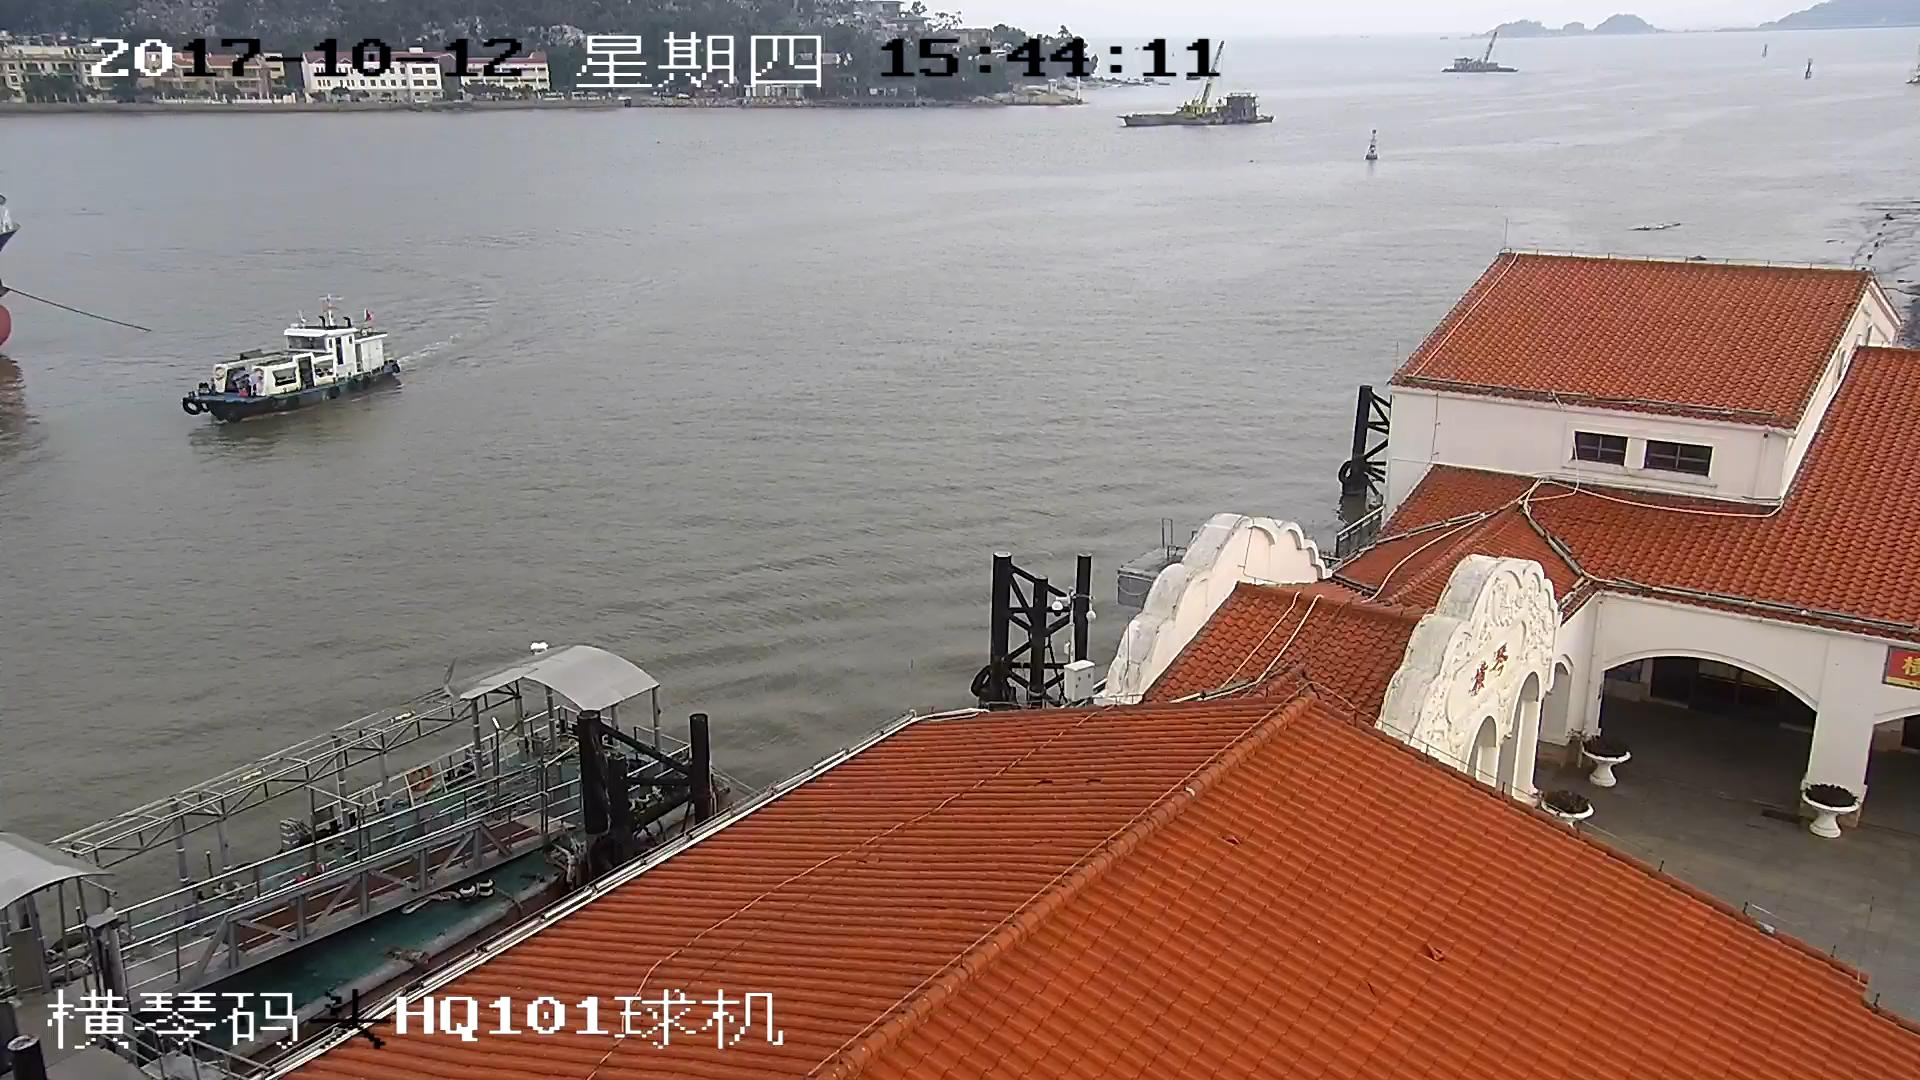fishing boat: (179, 313, 398, 422)
